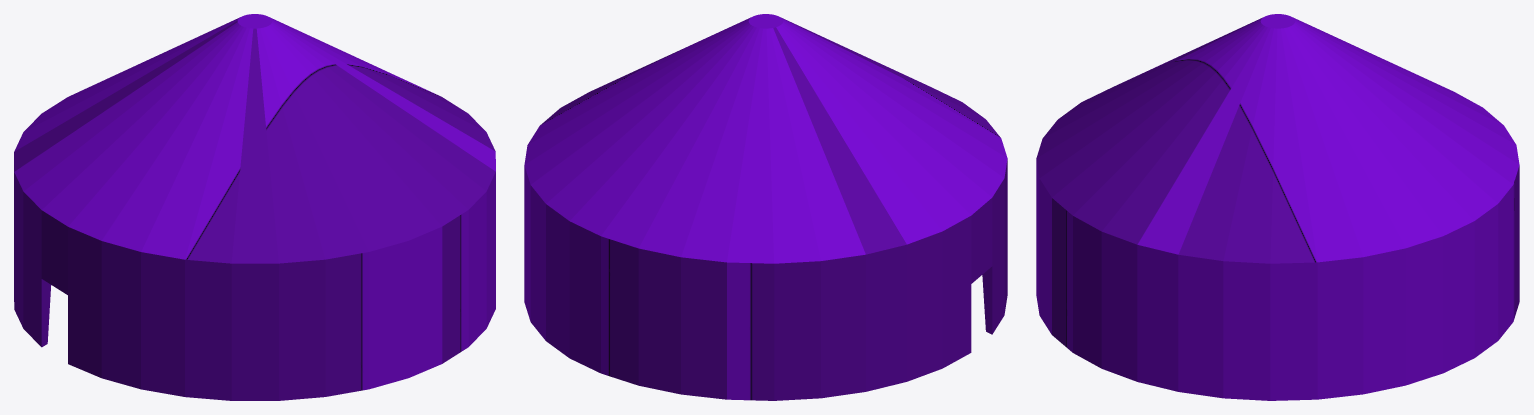
File: CircusTent.fbx
3 renders of one model, left to right at view 1: azimuth 30°, elevation 25°; view 2: azimuth 150°, elevation 25°; view 3: azimuth 270°, elevation 25°, orthographic.
Parts seen in each view (by area): view 1: Tent; view 2: Tent; view 3: Tent.
Boxes of the visible parts, box(x1,y1,x2,y2) form: Tent: box(14, 14, 495, 400); Tent: box(524, 14, 1007, 400); Tent: box(1036, 14, 1519, 400).
Bounding box in the file's own units: 3716 × 2355 × 3716.
